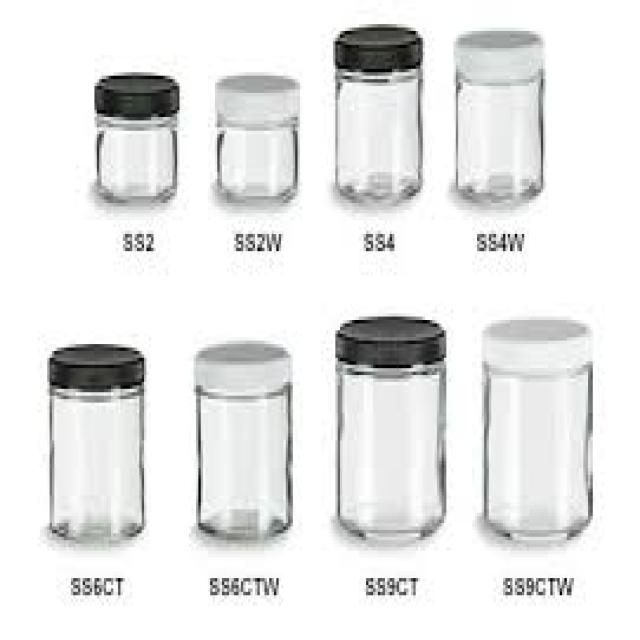glass: (335, 362, 444, 541), (484, 362, 591, 541), (196, 386, 290, 541), (50, 382, 142, 537), (451, 65, 541, 203), (333, 69, 418, 200), (95, 114, 177, 203), (213, 117, 295, 203)
metal: (482, 317, 586, 372), (194, 337, 288, 396), (331, 317, 442, 361), (454, 28, 539, 83), (47, 344, 142, 389), (331, 24, 418, 72), (92, 72, 177, 117), (213, 72, 298, 114)
